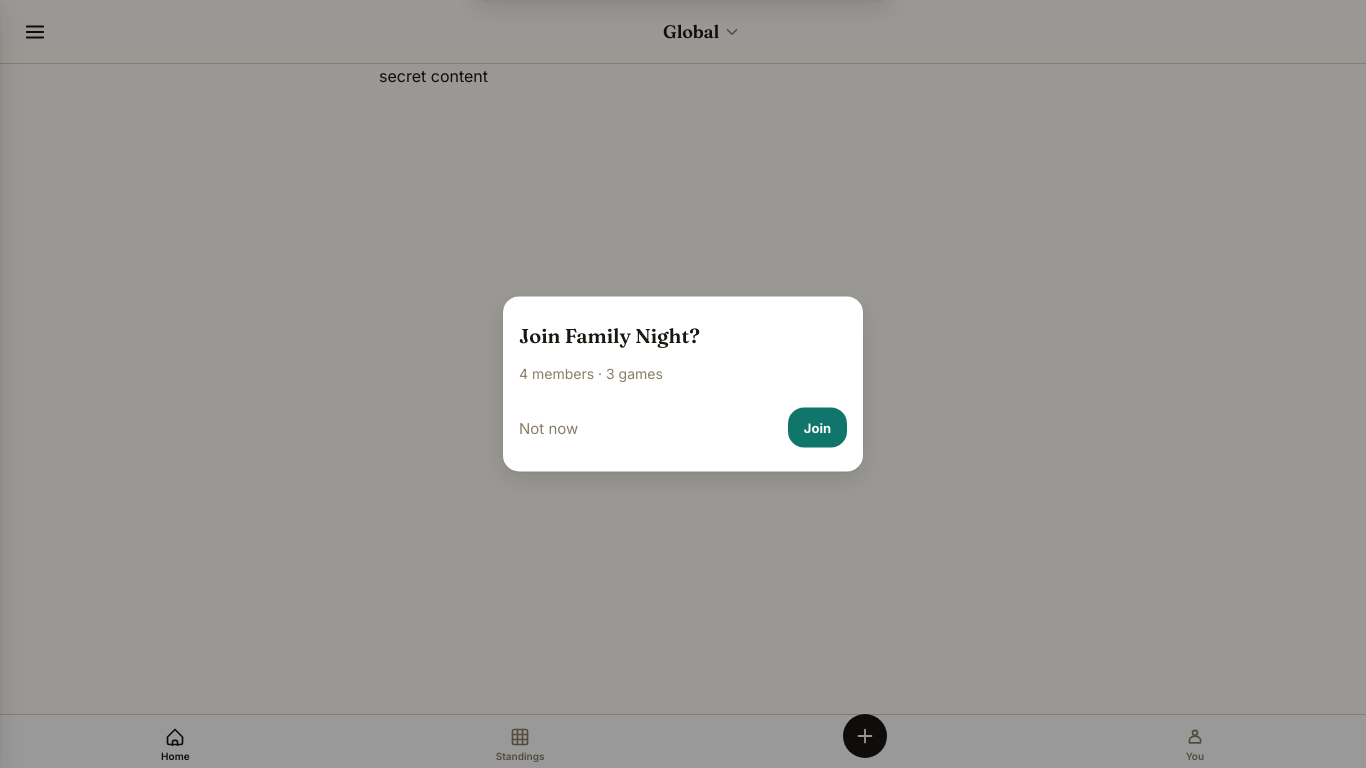
it: AppShell › renders the JoinGroup overlay when the URL has a ?join= token, and joining selects the group
Expected: the text "Join Family Night?" is shown, [519, 322, 700, 348]
Click the button "Join": [817, 428] box [788, 408, 847, 448]
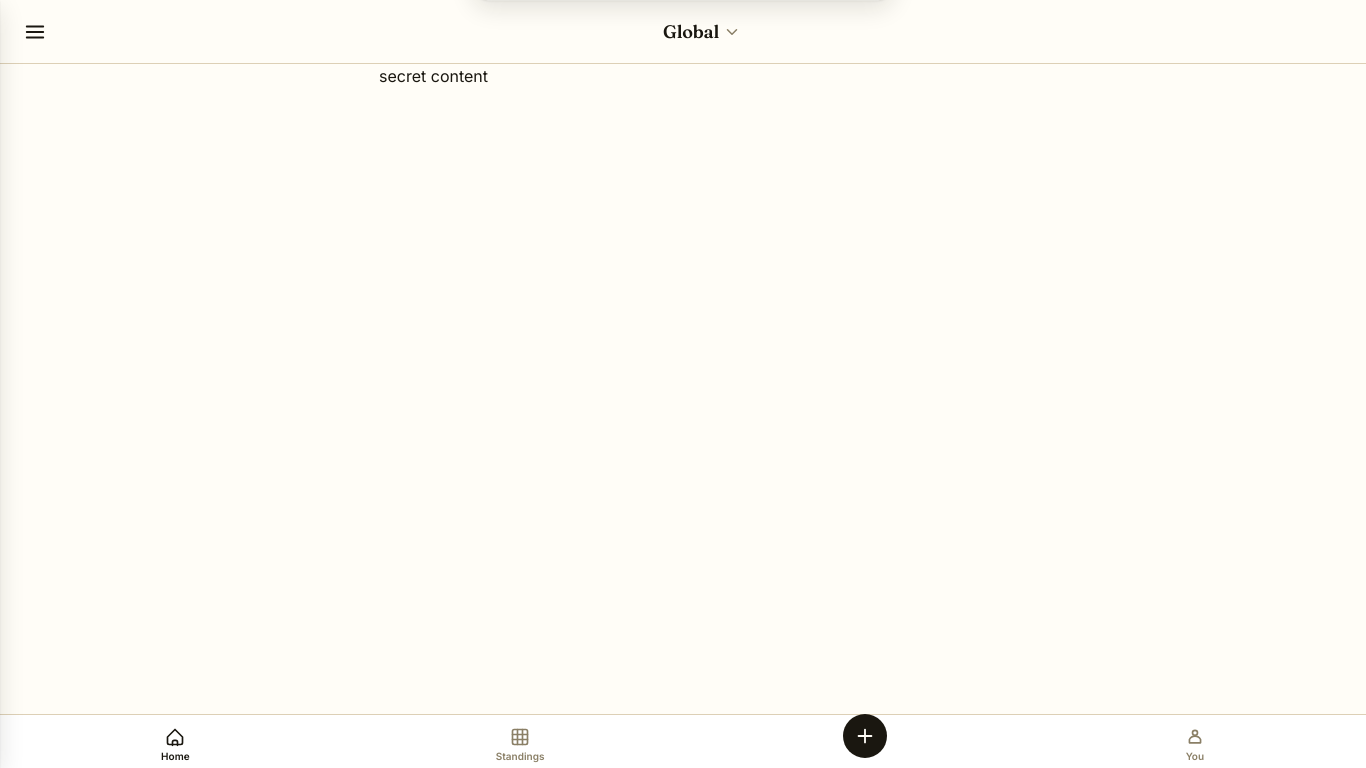
Result: the text "Join Family Night?" is gone
